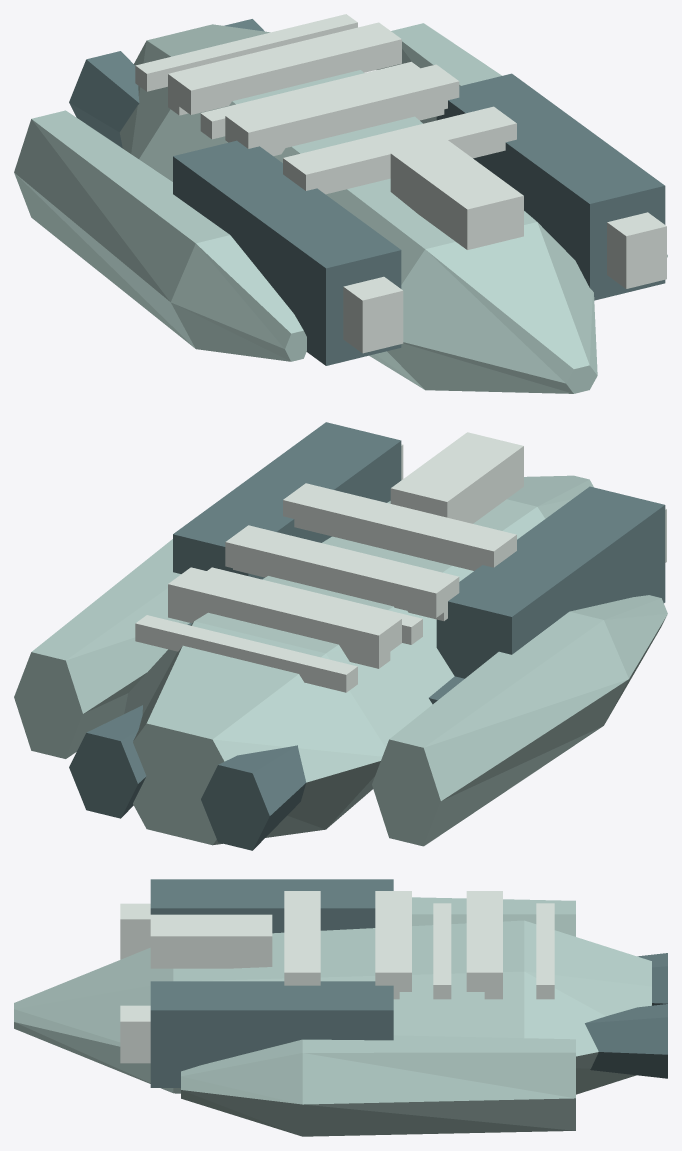
3 renders of one model, top to bottom at view 1: azimuth 30°, elevation 25°; view 2: azimuth 150°, elevation 25°; view 3: azimuth 270°, elevation 25°, orthographic. The views are drawn at different scales.
Bounding box in the file's own units: 2.57 × 1.08 × 4.
